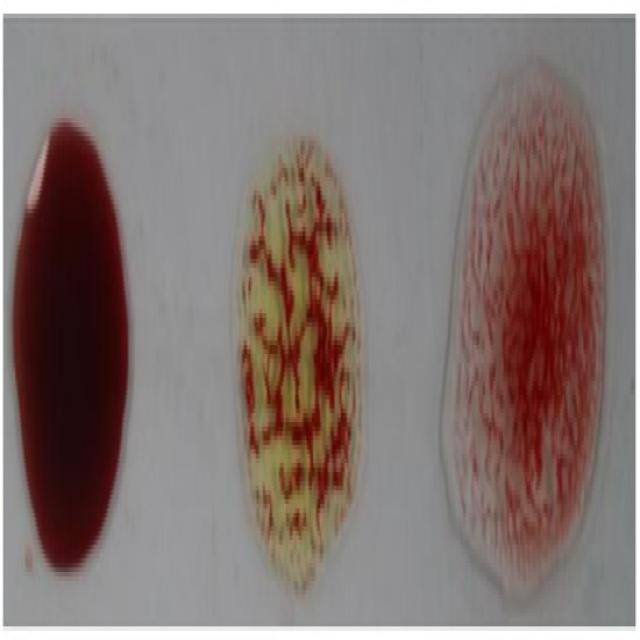B: (234, 115, 367, 588)
D: (452, 62, 608, 600)
